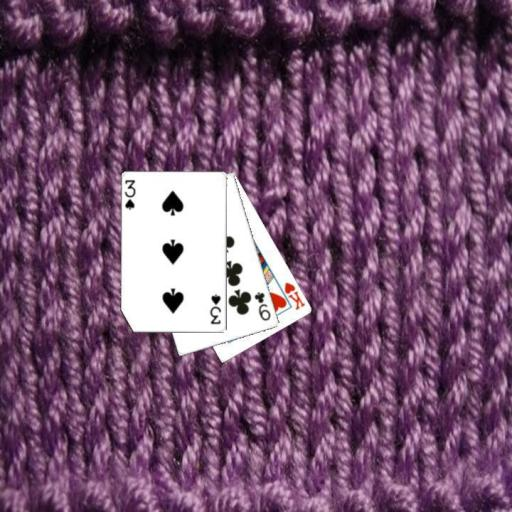card-corner: (282, 279, 306, 311), (251, 289, 272, 322), (122, 177, 138, 211), (208, 292, 222, 326)
